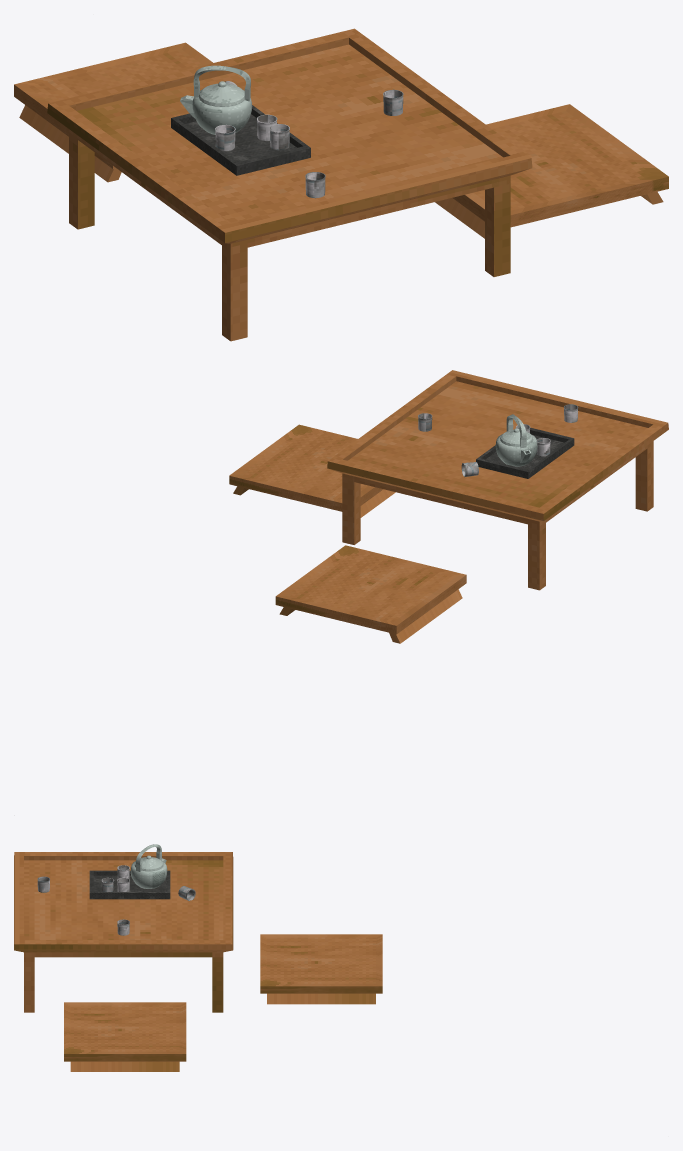
Rendered from The_Party.fbx.
3 renders of one model, top to bottom at view 1: azimuth 30°, elevation 25°; view 2: azimuth 150°, elevation 25°; view 3: azimuth 270°, elevation 25°, orthographic. The views are drawn at different scales.
Visible parts, largest first — view 1: pCube11, pCube40.001, pCube12, pCube40, Vassoio, pSphere3, tazza5, tazza4, pCylinder8, tazza2; view 2: pCube11, pCube40, pCube40.001, pCube12, Vassoio, pSphere3; view 3: pCube11, pCube40, pCube40.001, pCube12, Vassoio, pSphere3.
Part boxes in pixels (x1,y1,x2,y2): pCube11: [47, 28, 532, 243]; pCube40.001: [435, 104, 668, 238]; pCube12: [69, 129, 510, 341]; pCube40: [14, 42, 212, 182]; Vassoio: [171, 105, 310, 175]; pSphere3: [180, 65, 252, 134]; tazza5: [305, 172, 325, 198]; tazza4: [383, 89, 403, 115]; pCylinder8: [215, 124, 235, 151]; tazza2: [269, 124, 289, 150]; pCube11: [327, 370, 668, 521]; pCube40: [275, 545, 466, 643]; pCube40.001: [229, 424, 395, 517]; pCube12: [342, 441, 653, 590]; Vassoio: [476, 427, 574, 478]; pSphere3: [495, 414, 537, 466]; pCube11: [14, 852, 233, 952]; pCube40: [260, 934, 382, 1004]; pCube40.001: [64, 1002, 186, 1071]; pCube12: [24, 952, 223, 1012]; Vassoio: [89, 870, 170, 899]; pSphere3: [130, 844, 167, 888].
Size of the model in its own units: 9.09 by 5.88 by 17.23.
5 materials, 4 textured.
